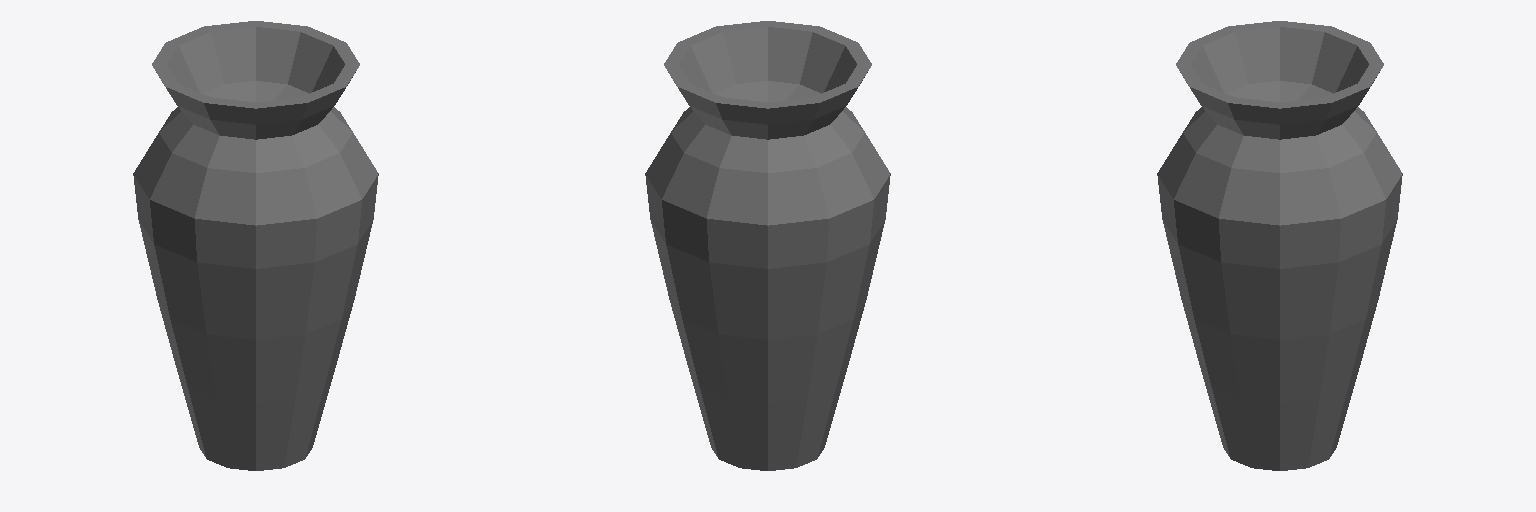
The model's file is Asset_vase_court_02.obj.
3 views of the same model, side by side, from view 1: azimuth 30°, elevation 25°; view 2: azimuth 150°, elevation 25°; view 3: azimuth 270°, elevation 25° (orthographic).
Visible parts, largest first — view 1: Vase_court_02; view 2: Vase_court_02; view 3: Vase_court_02.
Boxes of the visible parts, box(x1,y1,x2,y2) form: Vase_court_02: box(133, 21, 378, 470); Vase_court_02: box(645, 21, 890, 470); Vase_court_02: box(1157, 21, 1402, 470).
Bounding box in the file's own units: 92.13 × 158 × 92.13.